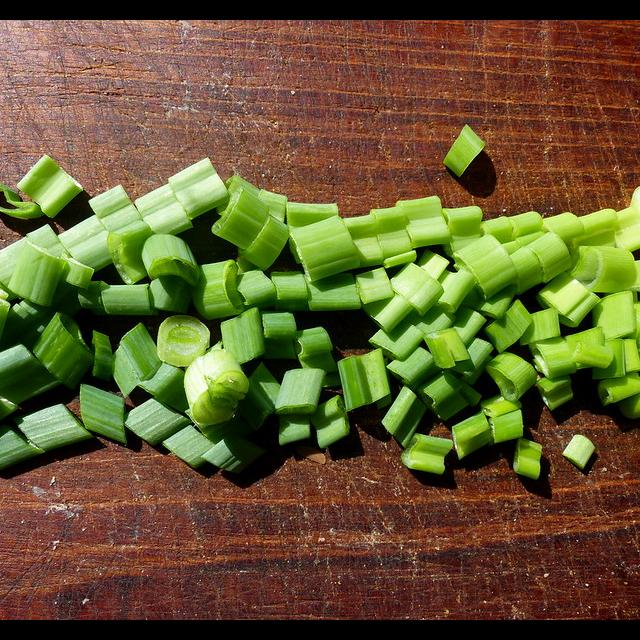green_onion: (0, 158, 640, 478)
